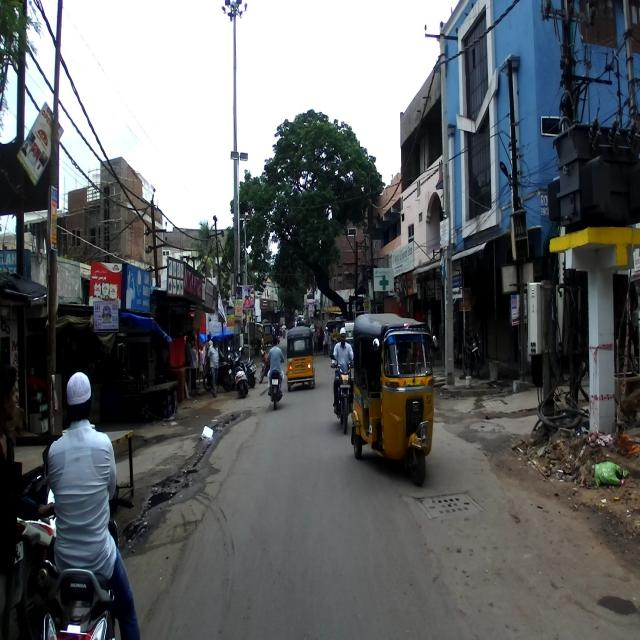autorickshaw: (350, 312, 438, 486)
motorcycle_Hero: (330, 327, 355, 434)
scooter: (46, 482, 134, 638)
